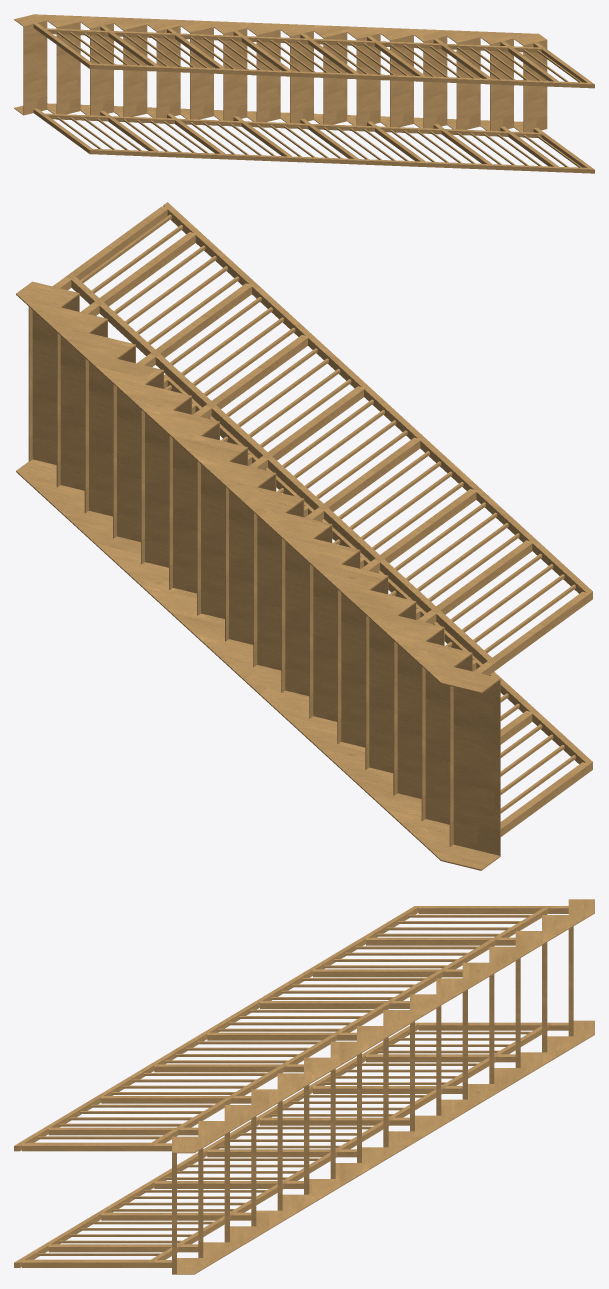
Rendered from escalera-madera-prova-mws83g4g.glb.
3 views of the same model, one above another, from view 1: azimuth 30°, elevation 25°; view 2: azimuth 150°, elevation 25°; view 3: azimuth 270°, elevation 25° (orthographic). The views are drawn at different scales.
Parts seen in each view (by area): view 1: Zanca_izquierda, Pasamanos_der, Pasamanos_izq, Peldano_lagrimado_12, Peldano_lagrimado_8, Peldano_lagrimado_2, Peldano_lagrimado_11, Peldano_lagrimado_3, Peldano_lagrimado_10, Peldano_lagrimado_13, Peldano_lagrimado_5, Peldano_lagrimado_15 (+40 smaller); view 2: Zanca_izquierda, Zanca_derecha, Peldano_lagrimado_12, Pasamanos_izq, Peldano_lagrimado_8, Peldano_lagrimado_6, Peldano_lagrimado_4, Peldano_lagrimado_11, Peldano_lagrimado_5, Peldano_lagrimado_7, Peldano_lagrimado_9, Peldano_lagrimado_16 (+18 smaller); view 3: Zanca_izquierda, Zanca_derecha, Pasamanos_izq, Pasamanos_der, Montante_izq_9, Montante_izq_1, Montante_izq_5, Montante_izq_4, Montante_izq_3, Montante_izq_2, Montante_der_1, Montante_der_8 (+26 smaller).
Boxes of the visible parts, x1,y1,x2,y2 form: Zanca_izquierda: (14, 14, 546, 45); Pasamanos_der: (88, 148, 594, 173); Pasamanos_izq: (88, 63, 594, 88); Peldano_lagrimado_12: (23, 20, 47, 115); Peldano_lagrimado_8: (56, 21, 80, 114); Peldano_lagrimado_2: (423, 36, 447, 128); Peldano_lagrimado_11: (223, 28, 247, 120); Peldano_lagrimado_3: (356, 33, 380, 125); Peldano_lagrimado_10: (156, 25, 180, 118); Peldano_lagrimado_13: (323, 32, 347, 124); Peldano_lagrimado_5: (256, 29, 280, 121); Peldano_lagrimado_15: (456, 37, 480, 129); Zanca_izquierda: (16, 282, 500, 693); Zanca_derecha: (16, 459, 500, 870); Peldano_lagrimado_12: (453, 667, 500, 856); Pasamanos_izq: (163, 202, 592, 600); Peldano_lagrimado_8: (425, 641, 472, 824); Peldano_lagrimado_6: (313, 538, 360, 721); Peldano_lagrimado_4: (229, 461, 276, 644); Peldano_lagrimado_11: (285, 513, 332, 695); Peldano_lagrimado_5: (257, 487, 304, 670); Peldano_lagrimado_7: (369, 590, 416, 772); Peldano_lagrimado_9: (397, 615, 444, 798); Peldano_lagrimado_16: (32, 281, 79, 464); Zanca_izquierda: (172, 899, 594, 1153); Zanca_derecha: (172, 1020, 594, 1274); Pasamanos_izq: (14, 906, 419, 1151); Pasamanos_der: (14, 1022, 418, 1267); Montante_izq_9: (22, 1143, 171, 1151); Montante_izq_1: (48, 1127, 198, 1135); Montante_izq_5: (366, 937, 515, 945); Montante_izq_4: (313, 969, 462, 977); Montante_izq_3: (207, 1032, 356, 1040); Montante_izq_2: (154, 1064, 303, 1072); Montante_der_1: (48, 1244, 198, 1252); Montante_der_8: (101, 1212, 251, 1220).
Bounding box in the file's own units: 4 × 0.9 × 3.88.
1 material, 1 textured.
